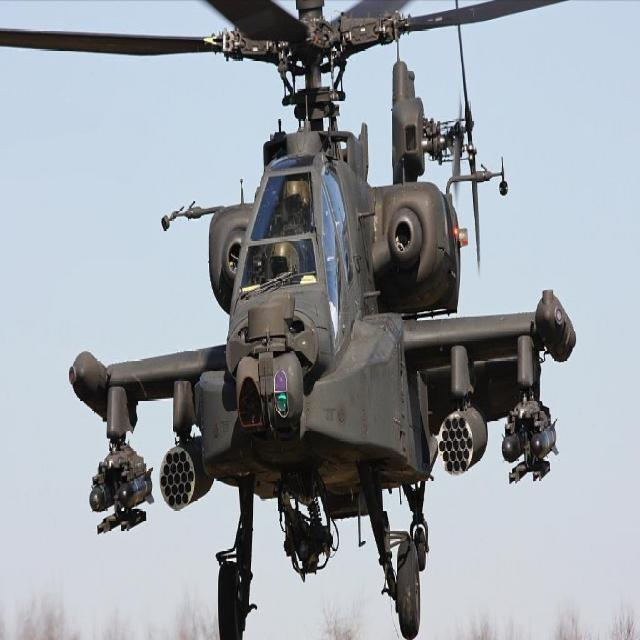MIL_HELO: (0, 9, 607, 640)
